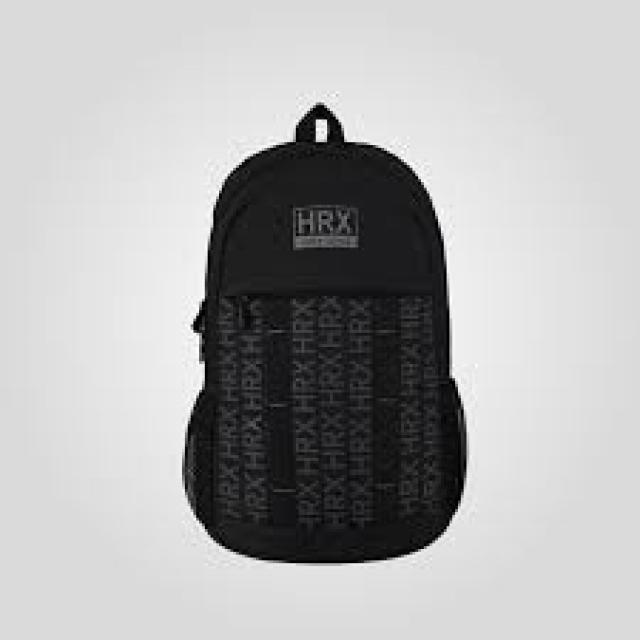backpack: (179, 100, 467, 563)
